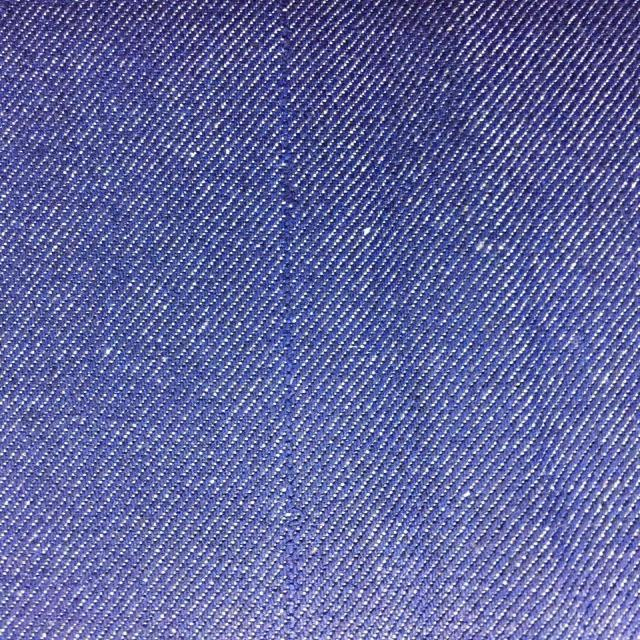Line: (276, 0, 296, 640)
